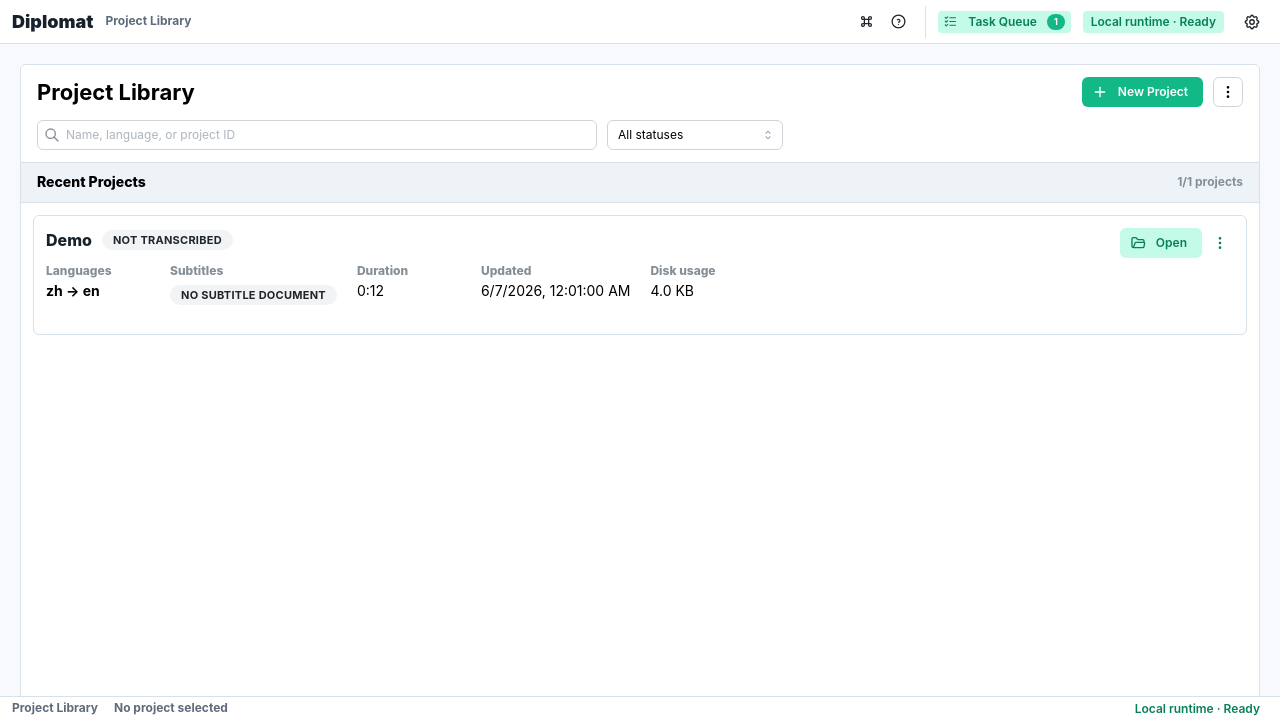
Scenario: App › opens the matching help article from a workbench panel help button
The width and height of the screenshot is (1280, 720).
Click the button "Open". click: (1161, 243)
box: [1120,228,1202,258]
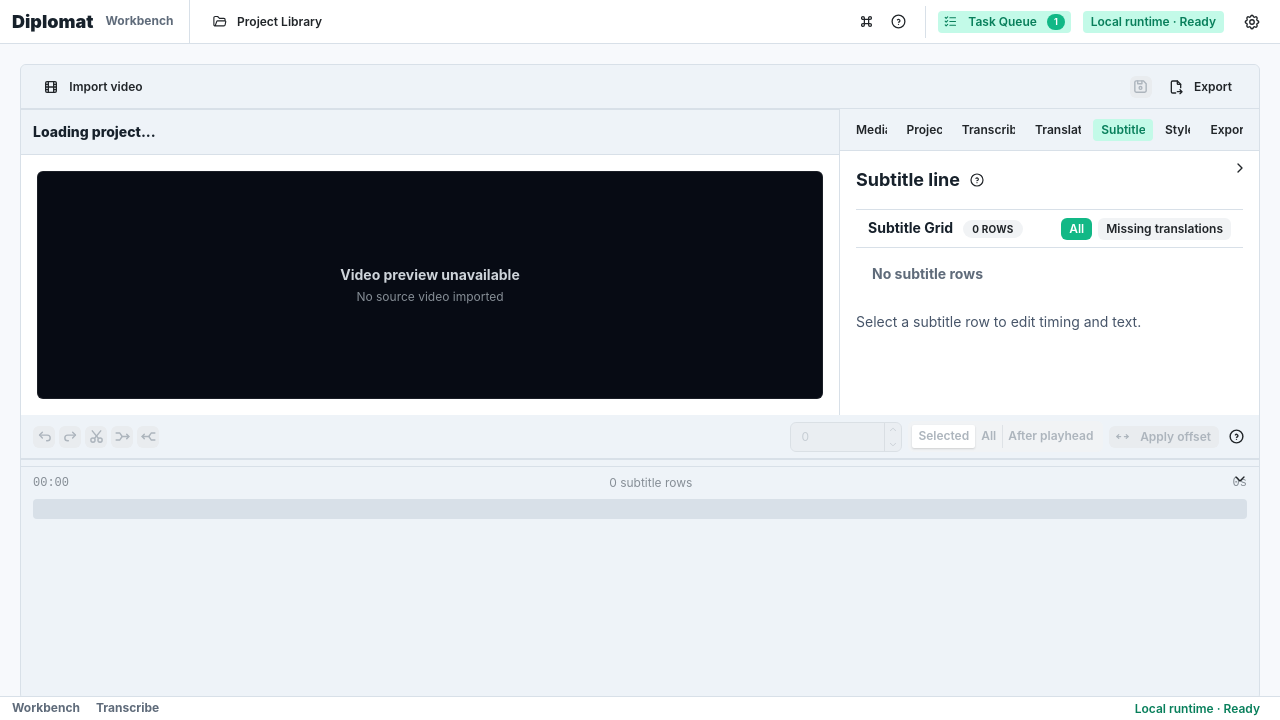
Expected: the element named "Workbench" is shown
Click the button named "Open help for Subtitle line". click: (977, 180)
box: [966,169,988,191]
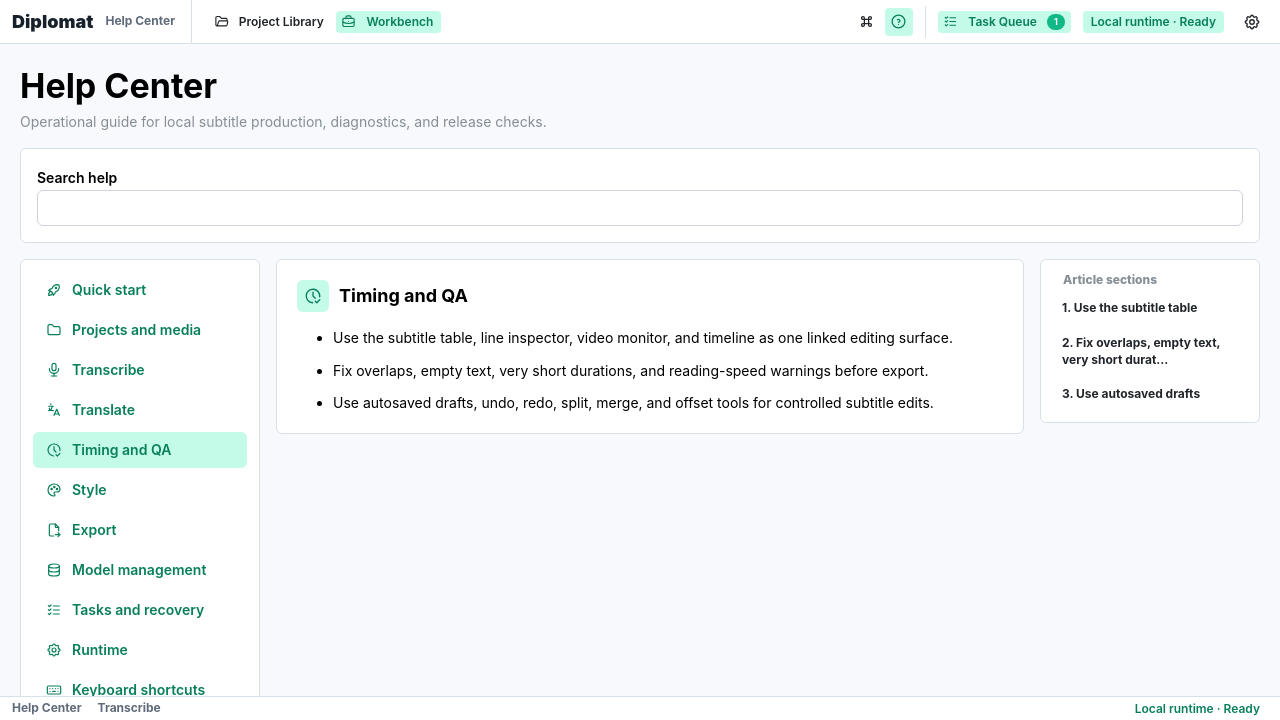
Expected: the headings read "Help Center", in this order, [20,65,217,106]
Expected: the element "Timing and QA" is shown, [276,259,1024,434]
